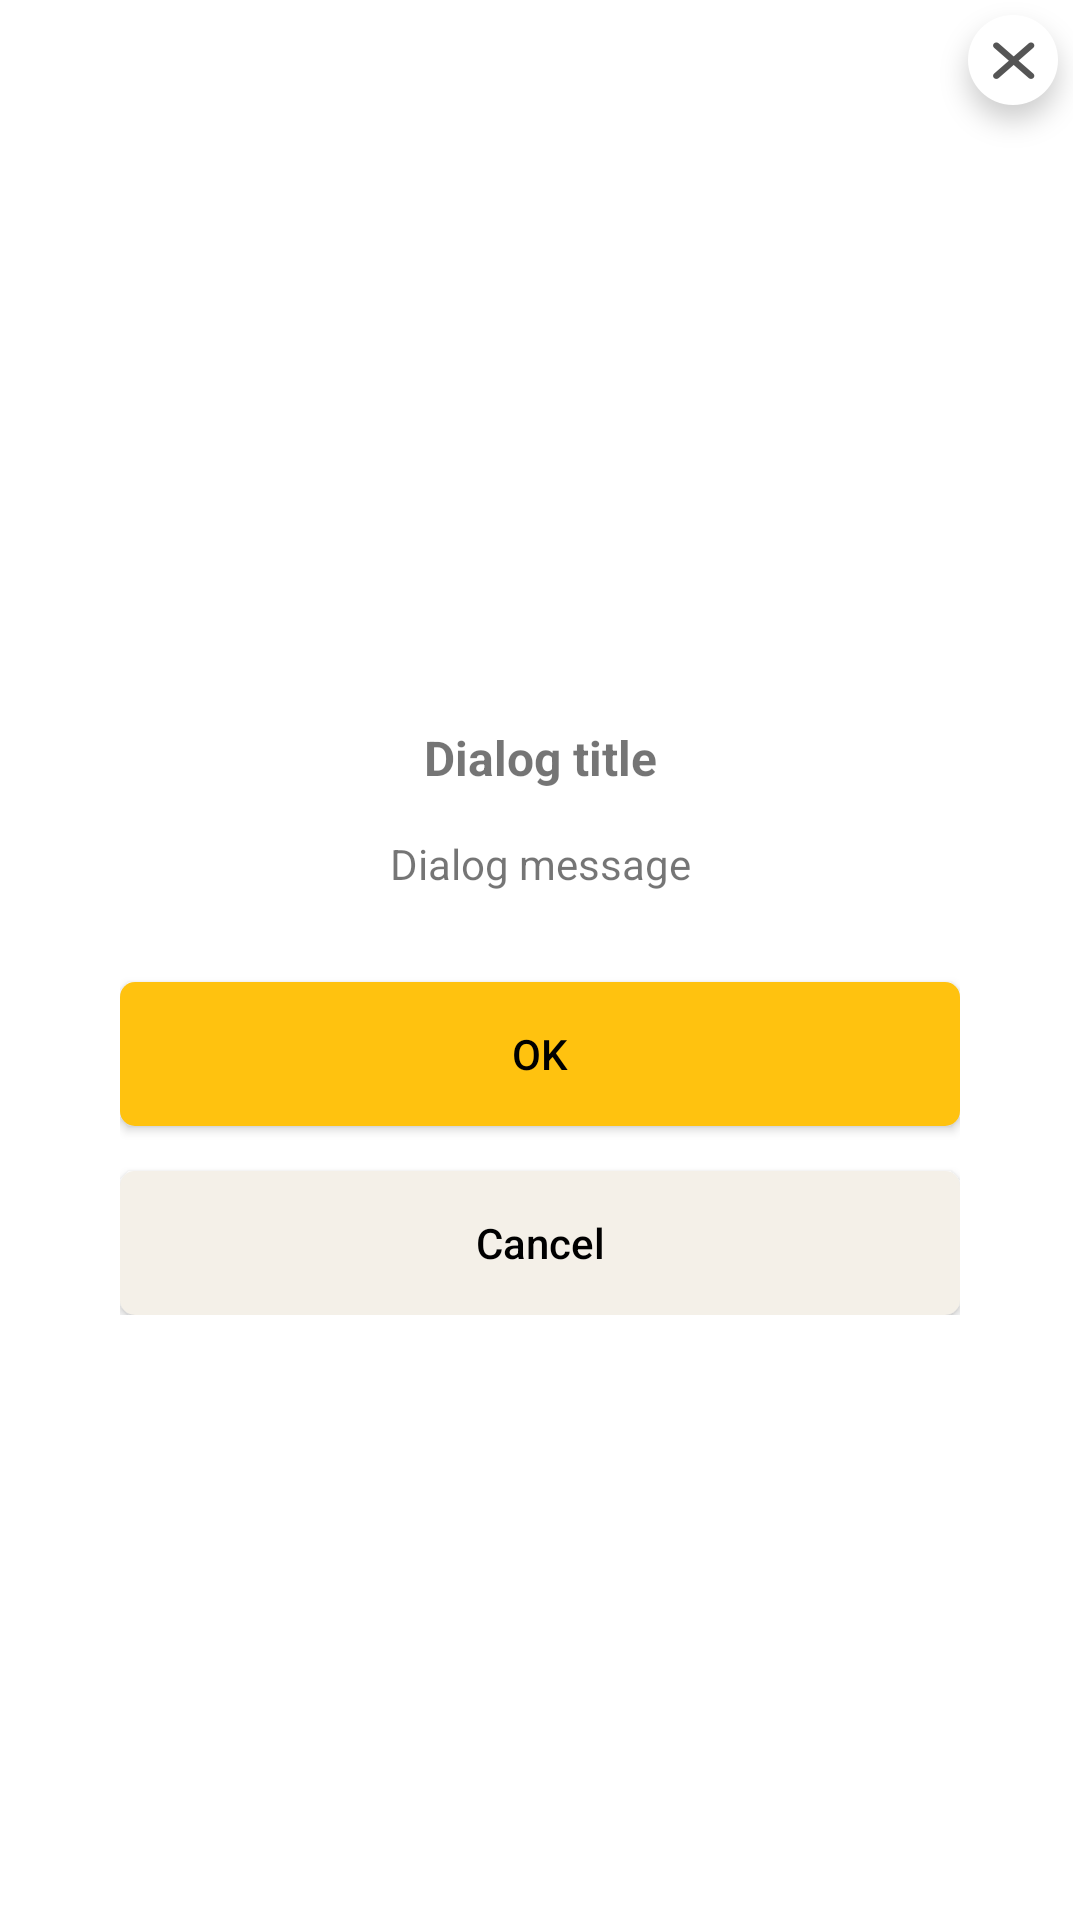

Point at icon controls on the screen. Image size 1080w x 1920h, points as (x,y).
close: (1013,80)
